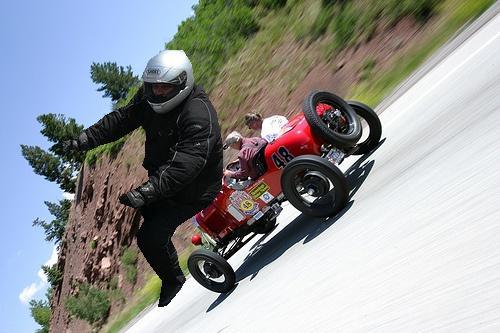tampered: (60, 51, 223, 307)
